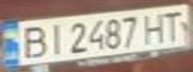2: (66, 18, 90, 55)
4: (87, 16, 109, 52)
7: (118, 14, 145, 48)
8: (103, 16, 127, 51)
B: (15, 22, 51, 60)
H: (139, 10, 172, 44)
I: (42, 20, 69, 56)
T: (157, 7, 190, 42)
